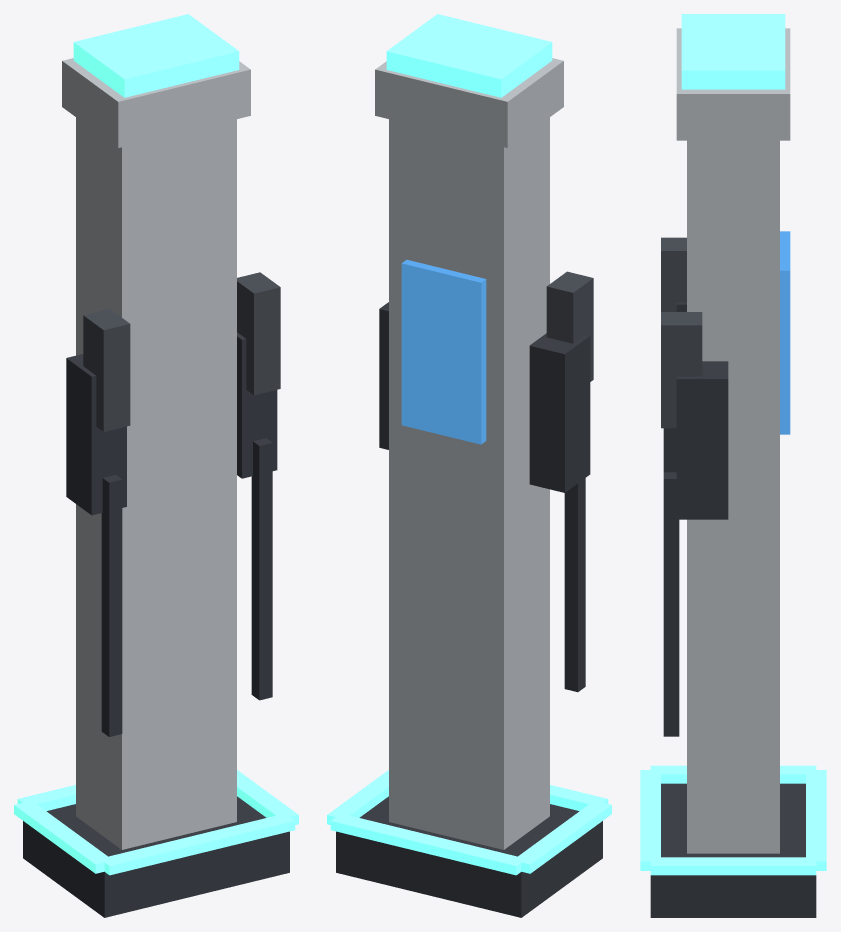
The model's file is charging_pile_v2.glb.
The picture shows the model from 3 angles, left to right: view 1: azimuth 30°, elevation 25°; view 2: azimuth 150°, elevation 25°; view 3: azimuth 270°, elevation 25°; orthographic projection.
Visible parts, largest first — view 1: part_column, part_base, part_cap, part_cap_glow, part_holster_0, part_cable_0, part_cable_1, part_gun_0, part_gun_1, part_base_outline_x0, part_holster_1, part_base_outline_z0 (+2 smaller); view 2: part_column, part_screen, part_base, part_cap, part_holster_0, part_cap_glow, part_cable_0, part_base_outline_x1, part_gun_0, part_base_outline_z0, part_holster_1, part_base_outline_z1 (+1 smaller); view 3: part_column, part_base, part_holster_1, part_cap_glow, part_cap, part_cable_1, part_gun_1, part_base_outline_z1, part_screen, part_base_outline_x0, part_base_outline_x1, part_gun_0 (+2 smaller).
Boxes of the visible parts, x1,y1,x2,y2 form: part_column: (76,117,236,849); part_base: (23,796,289,917); part_cap: (62,58,250,147); part_cap_glow: (73,14,239,97); part_holster_0: (66,354,126,515); part_cable_0: (101,475,122,736); part_cable_1: (251,438,272,700); part_gun_0: (83,309,130,431); part_gun_1: (237,272,280,395); part_base_outline_x0: (104,813,295,875); part_holster_1: (237,332,277,478); part_base_outline_z0: (14,800,112,873); part_column: (389,117,549,849); part_screen: (401,260,486,444); part_base: (336,796,602,917); part_cap: (375,58,563,147); part_holster_0: (529,333,590,492); part_cap_glow: (386,14,552,97); part_cable_0: (564,478,585,692); part_base_outline_x1: (330,813,521,875); part_gun_0: (546,271,593,381); part_base_outline_z0: (513,800,611,873); part_holster_1: (379,302,388,449); part_base_outline_z1: (327,770,388,824); part_column: (687,140,779,853); part_base: (650,783,816,917); part_holster_1: (676,361,728,519); part_cap_glow: (681,14,785,89); part_cap: (676,28,790,140); part_cable_1: (663,472,679,736); part_gun_1: (661,312,702,428); part_base_outline_z1: (650,857,816,875); part_screen: (780,231,790,434); part_base_outline_x0: (640,770,660,870); part_base_outline_x1: (806,770,826,870); part_gun_0: (661,237,686,311).
Bounding box in the file's own units: 0.46 × 1.77 × 0.36.
